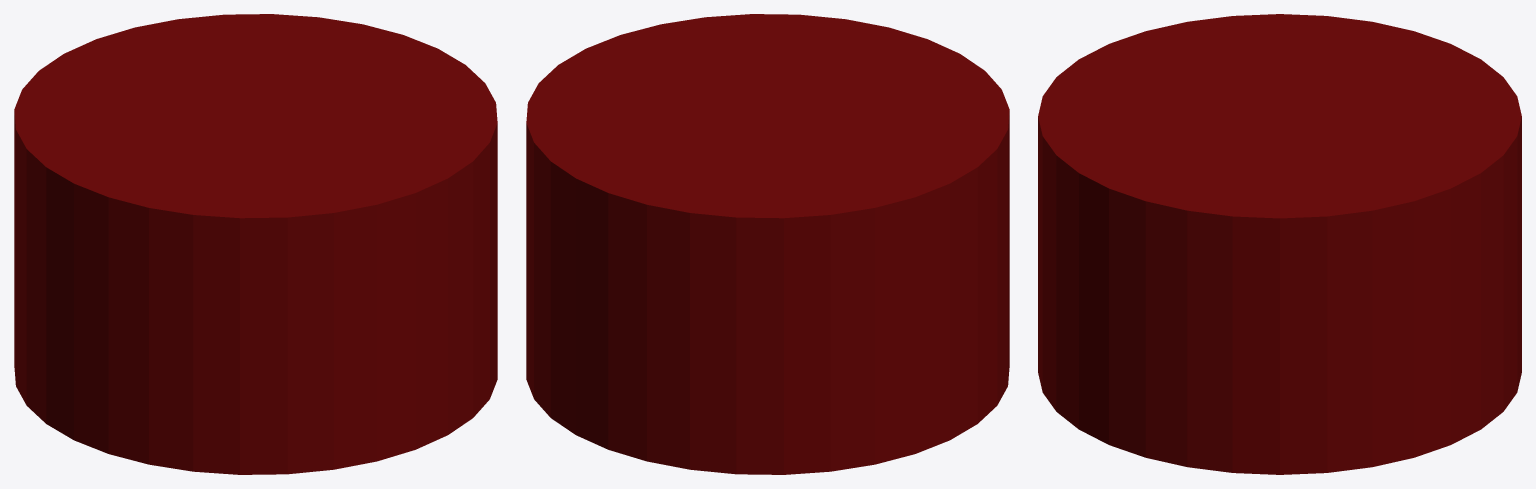
File: Enemy_Body2.obj
3 renders of one model, left to right at view 1: azimuth 30°, elevation 25°; view 2: azimuth 150°, elevation 25°; view 3: azimuth 270°, elevation 25°, orthographic.
Visible parts, largest first — view 1: 円柱.001; view 2: 円柱.001; view 3: 円柱.001.
Boxes of the visible parts, box(x1,y1,x2,y2) form: 円柱.001: box(14, 14, 497, 474); 円柱.001: box(526, 14, 1009, 474); 円柱.001: box(1038, 14, 1521, 474).
Size of the model in its own units: 2 by 1.17 by 2.
